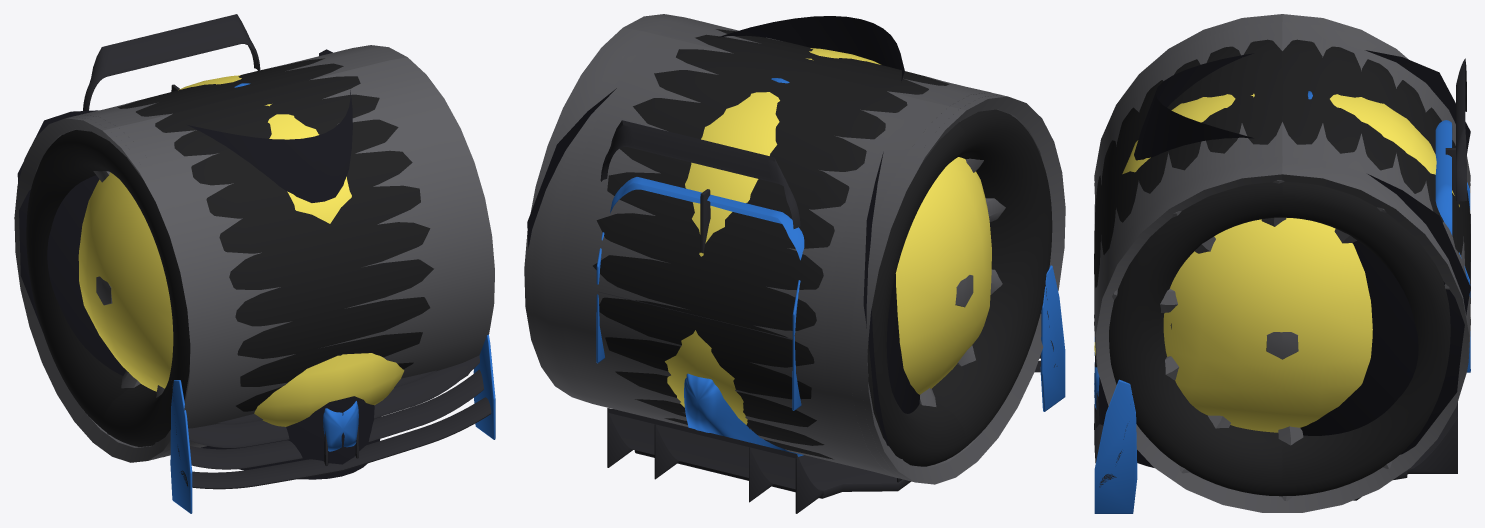
3 views of the same model, side by side, from view 1: azimuth 30°, elevation 25°; view 2: azimuth 150°, elevation 25°; view 3: azimuth 270°, elevation 25° (orthographic). The views are drawn at different scales.
Parts seen in each view (by area): view 1: tyre_FR, rim_FL, tyre_FL, helmet, carbon, rim_FR, visor, tyre_RR, body, rim_RR, rim_RL, tyre_RL; view 2: tyre_RR, tyre_RL, rim_FL, helmet, carbon, rim_RL, rim_FR, rim_RR, body, visor, tyre_FR, tyre_FL; view 3: helmet, tyre_RL, tyre_FL, rim_FR, visor, rim_FL, tyre_RR, body, tyre_FR, rim_RL, carbon, rim_RR.
Part boxes in pixels (x1,y1,x2,y2): tyre_FR: (29,93,385,446); rim_FL: (14,51,463,462); tyre_FL: (215,76,433,369); helmet: (78,75,404,426); carbon: (83,14,491,489); rim_FR: (81,45,494,457); visor: (17,49,380,479); tyre_RR: (26,82,254,432); body: (170,83,495,513); rim_RR: (63,45,407,459); rim_RL: (66,49,465,462); tyre_RL: (233,58,343,92); tyre_RR: (650,68,1048,466); tyre_RL: (593,49,827,424); rim_FL: (559,21,1064,484); helmet: (665,48,991,424); carbon: (598,120,1057,513); rim_RL: (549,19,1065,482); rim_FR: (531,14,990,477); rim_RR: (524,20,1014,480); body: (596,78,1065,456); visor: (527,16,919,449); tyre_FR: (795,56,1052,450); tyre_FL: (695,29,818,67); helmet: (1094,93,1459,432); tyre_RL: (1126,93,1470,495); tyre_FL: (1094,92,1438,496); rim_FR: (1094,22,1470,512); visor: (1094,50,1470,467); rim_FL: (1094,14,1470,352); tyre_RR: (1282,39,1470,255); body: (1094,91,1470,513); tyre_FR: (1094,39,1282,263); rim_RL: (1100,14,1470,501); carbon: (1094,58,1470,500); rim_RR: (1094,17,1470,512).
Bounding box in the file's own units: 65536 × 65534 × 65537.
